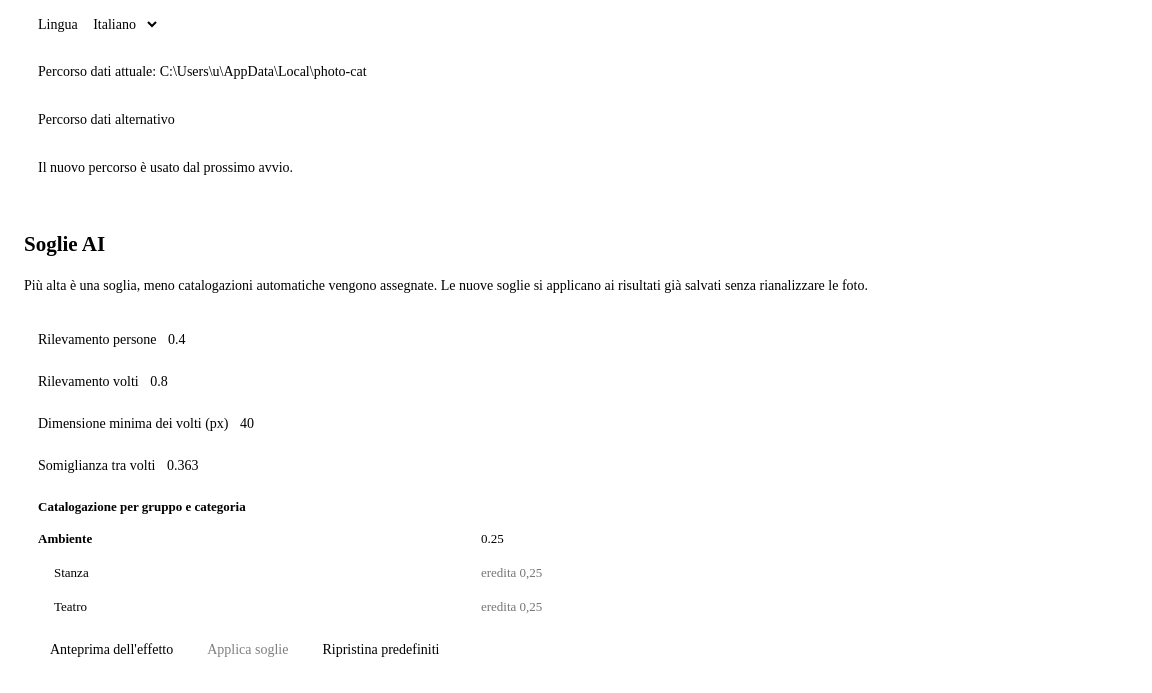
Test: rifiuta un valore non valido e ripristina i predefiniti
The image size is (1152, 693).
(page scrolled)
Note: Scenario "Valore non valido".
Step 1. Replace the text in the field labelled "Rilevamento persone" with "1.5" → (205, 340), box [160, 324, 250, 356]
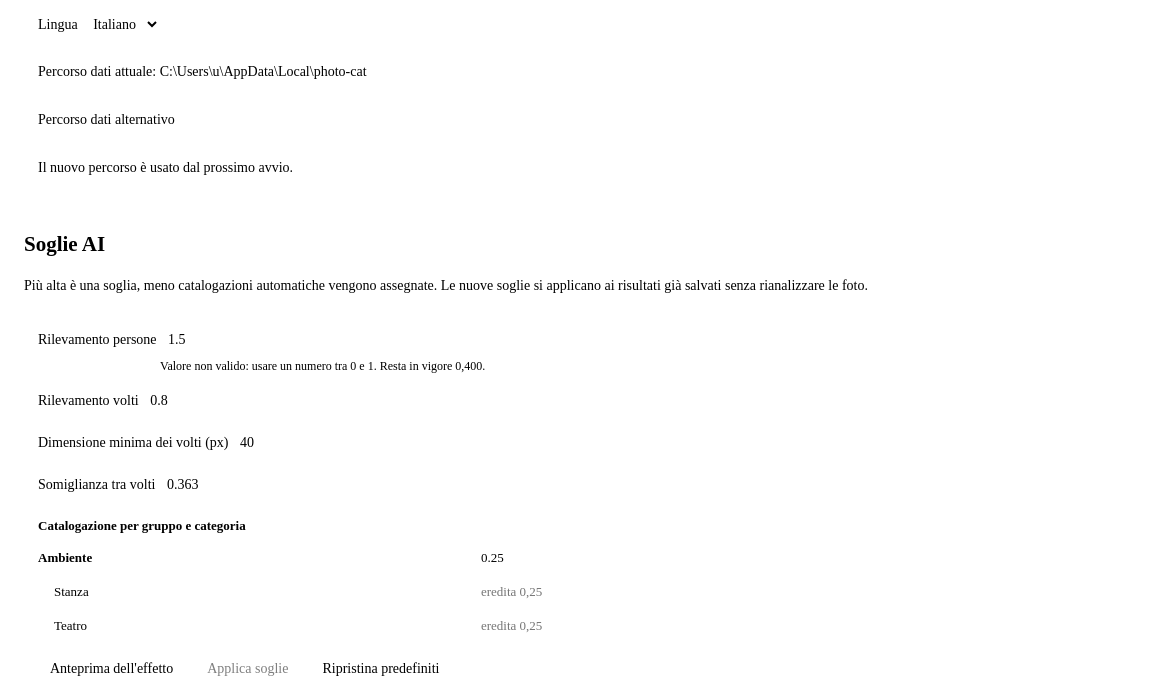
Check: the message shows "Resta in vigore 0,4", box [160, 359, 485, 373]
Step 2. Replace the text in the field labelled "Somiglianza tra volti" with "0.5" → (204, 485), box [159, 469, 249, 501]
Step 3. Click the button "Applica soglie" → (248, 669), box [195, 653, 300, 685]
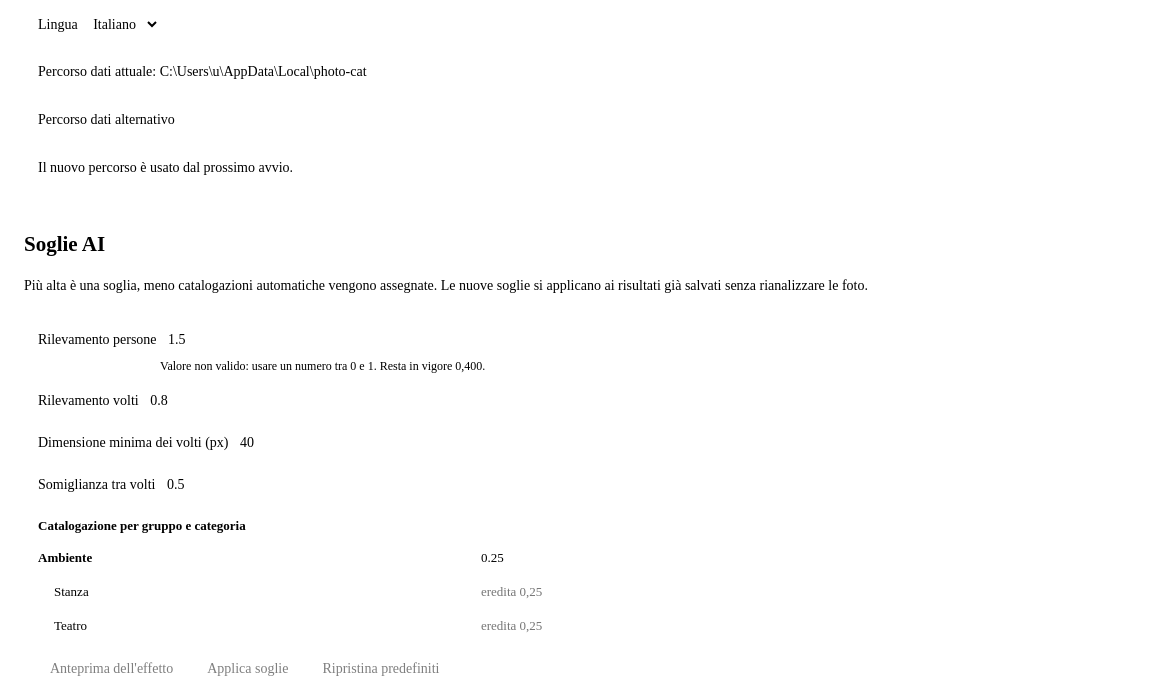
Note: Scenario "Ripristino dei predefiniti".
Step 4. Replace the text in the field labelled "Rilevamento persone" with "0.7" → (205, 340), box [160, 324, 250, 356]
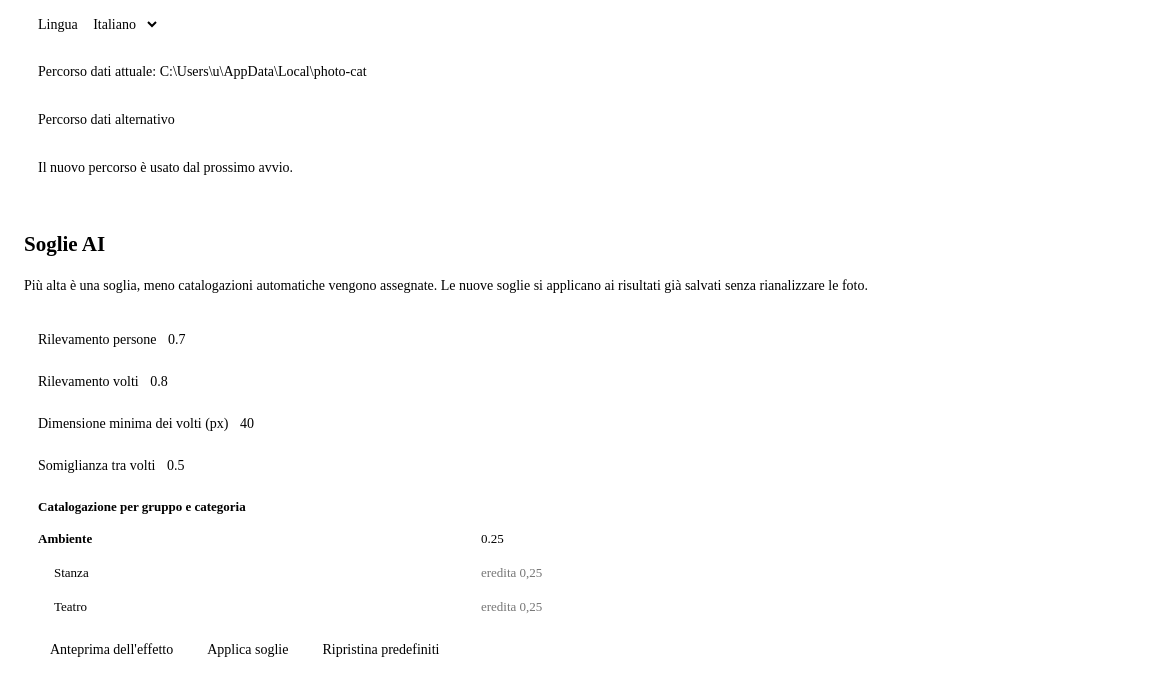
Step 5. Replace the text in the field named "Gruppo Ambiente" with "0.5" → (518, 539), box [473, 523, 563, 555]
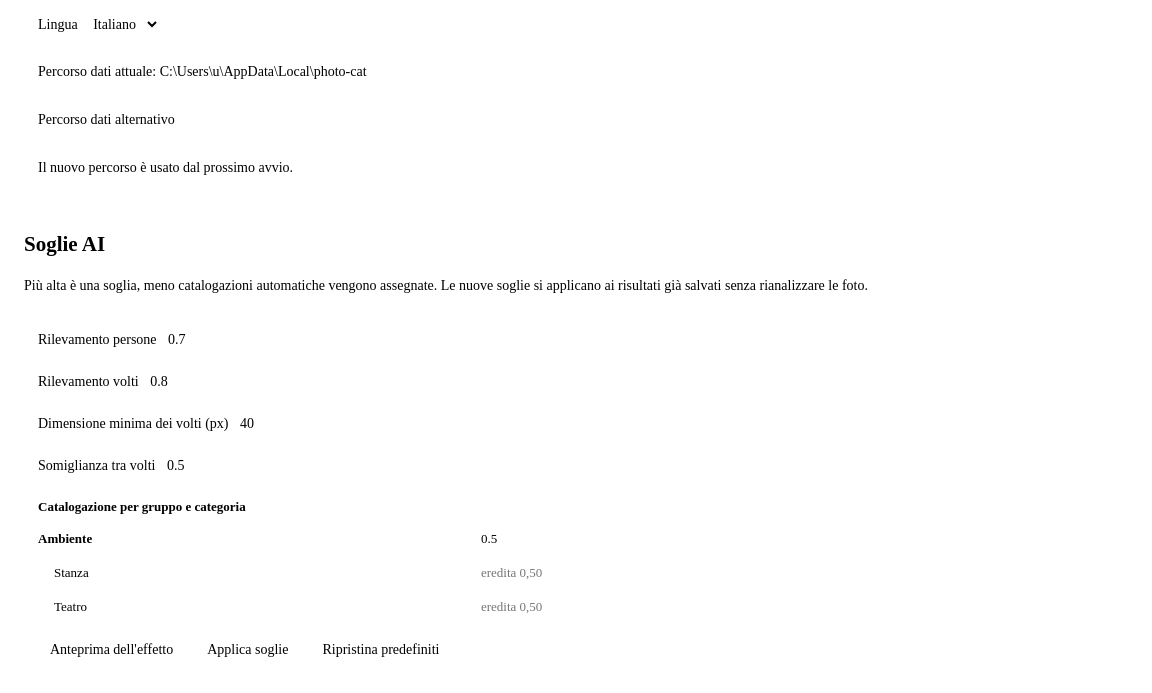
Step 6. Type "0.9" into the field named "Categoria Teatro" → (518, 607), box [473, 591, 563, 623]
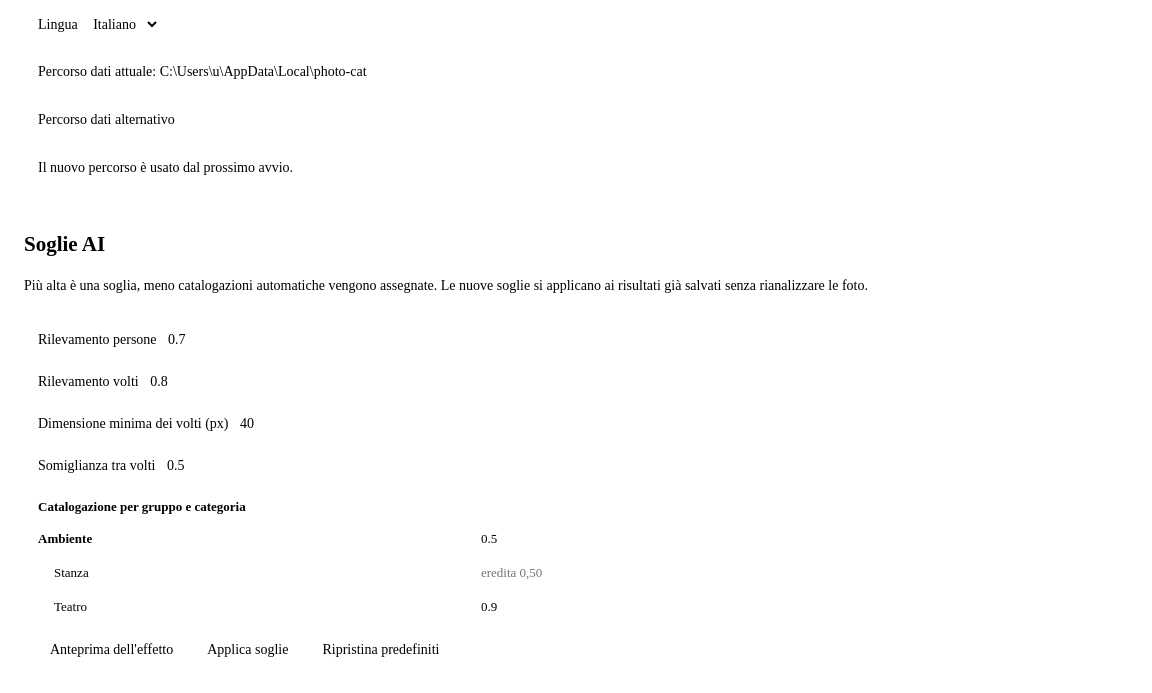
Step 7. Click the button "Ripristina predefiniti" → (381, 650), box [310, 634, 451, 666]
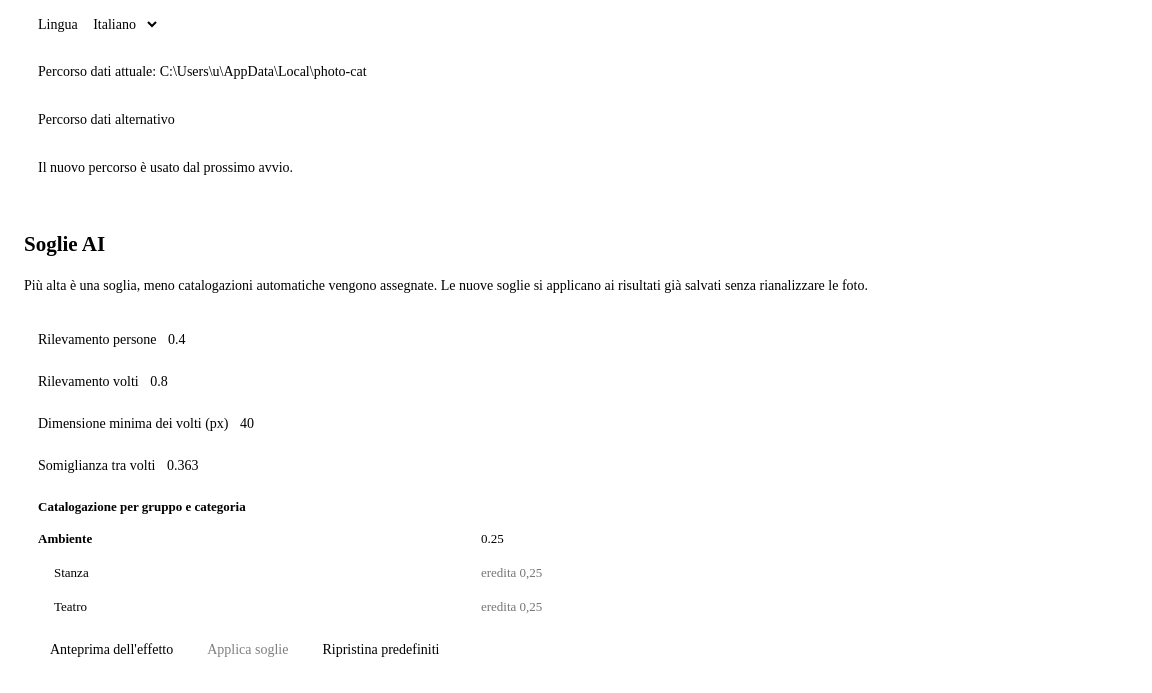
Check: the field labelled "Rilevamento persone" holds "0.4", box [160, 324, 250, 356]
Check: the field labelled "Somiglianza tra volti" holds "0.363", box [159, 450, 249, 482]
Check: the field named "Gruppo Ambiente" holds "0.25", box [473, 523, 563, 555]
